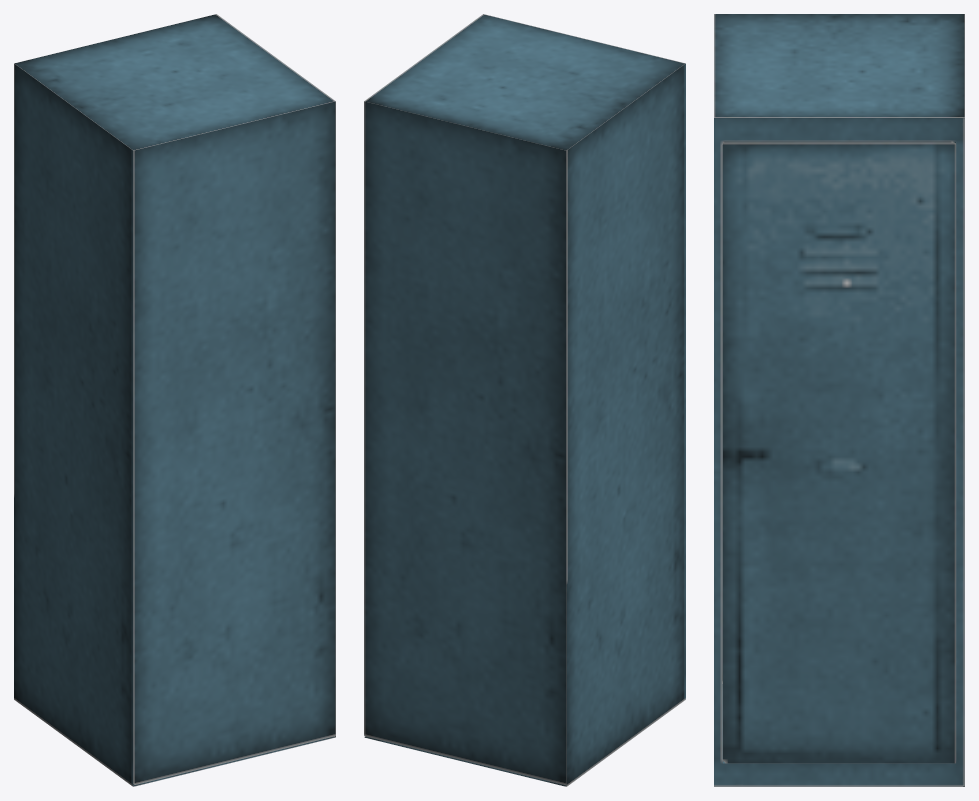
File: Light Blue Single Lockers.fbx
The picture shows the model from 3 angles, left to right: view 1: azimuth 30°, elevation 25°; view 2: azimuth 150°, elevation 25°; view 3: azimuth 270°, elevation 25°; orthographic projection. The views are drawn at different scales.
Visible parts, largest first — view 1: Light Blue Lockers; view 2: Light Blue Lockers; view 3: Lockers Door.001, Light Blue Lockers.
Boxes of the visible parts, x1=… form: Light Blue Lockers: x1=14, y1=14, x2=335, y2=786; Light Blue Lockers: x1=364, y1=14, x2=685, y2=786; Lockers Door.001: x1=723, y1=141, x2=955, y2=763; Light Blue Lockers: x1=714, y1=14, x2=964, y2=786.
Size of the model in its own units: 100 by 300 by 102.
